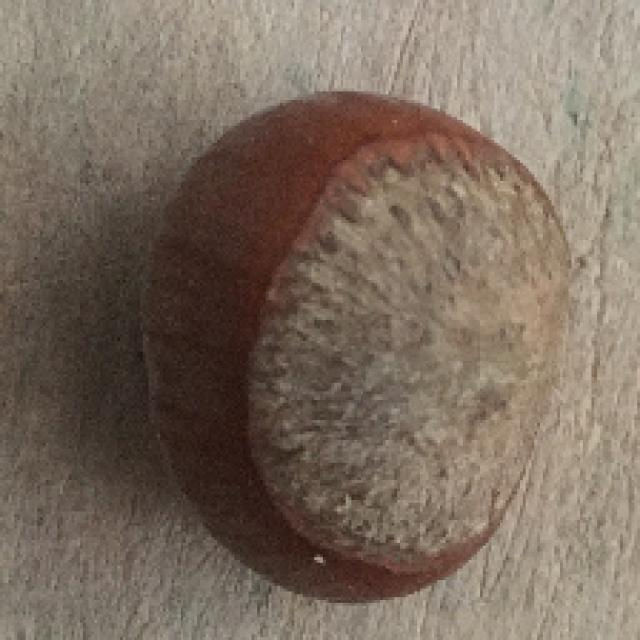qualityHazelnut: (143, 93, 574, 601)
